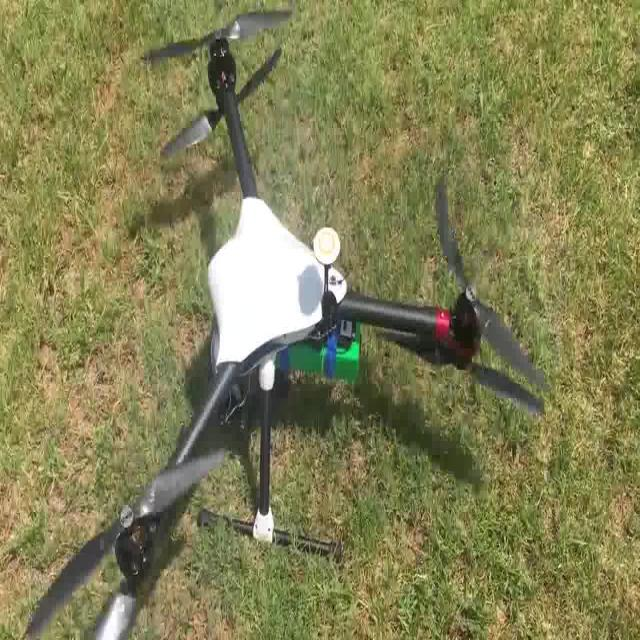drones: (14, 0, 558, 640)
